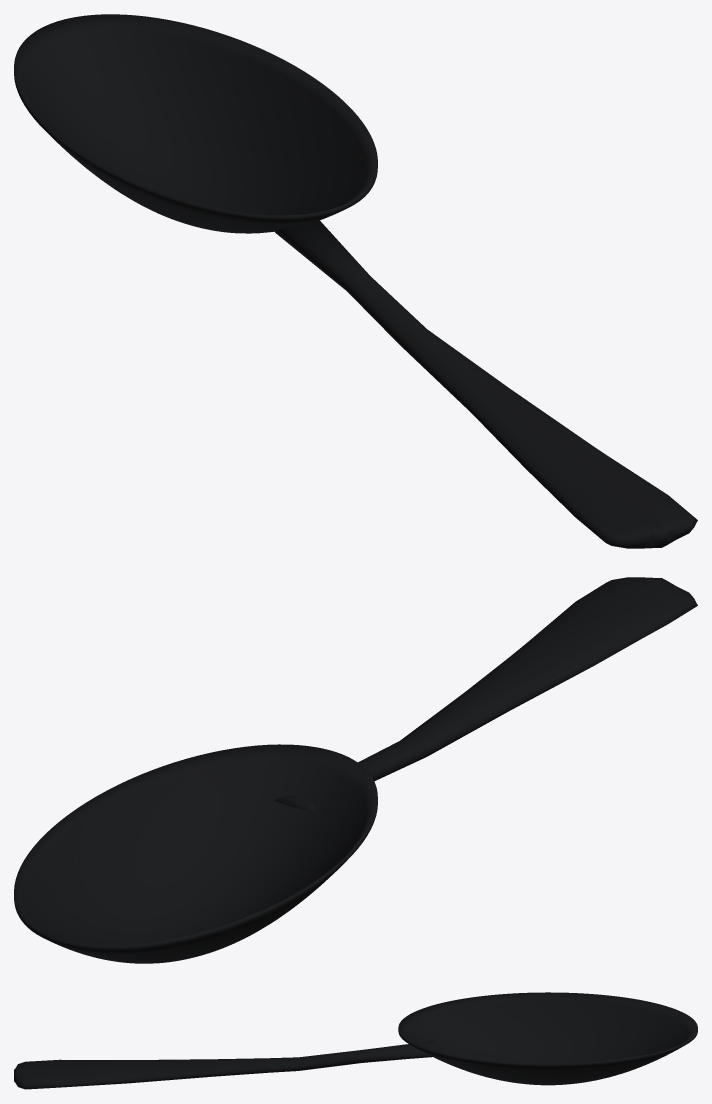
3 renders of one model, top to bottom at view 1: azimuth 30°, elevation 25°; view 2: azimuth 150°, elevation 25°; view 3: azimuth 270°, elevation 25°, orthographic. The views are drawn at different scales.
Visible parts, largest first — view 1: body; view 2: body; view 3: body.
Boxes of the visible parts, x1,y1,x2,y2 form: body: (14,14,697,548); body: (14,577,697,963); body: (14,992,697,1089).
Size of the model in its own units: 0.0449 by 0.0157 by 0.183.
1 material, 1 textured.
